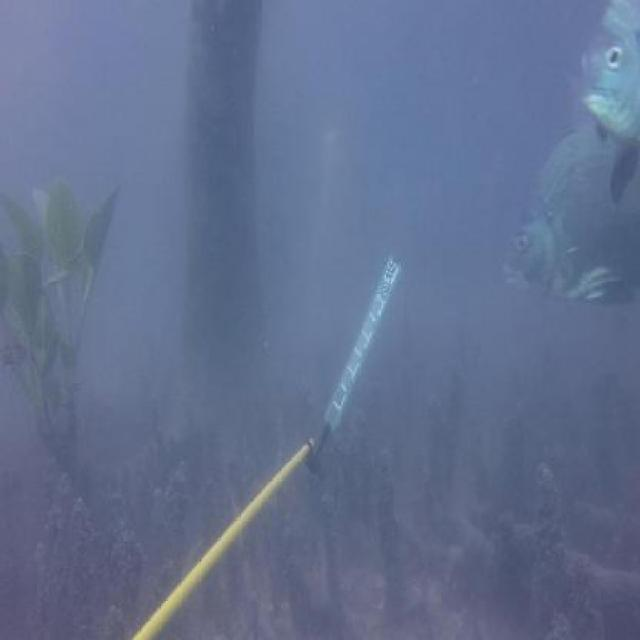acanthopagrus_palmaris: (503, 123, 640, 312), (577, 5, 640, 209)
